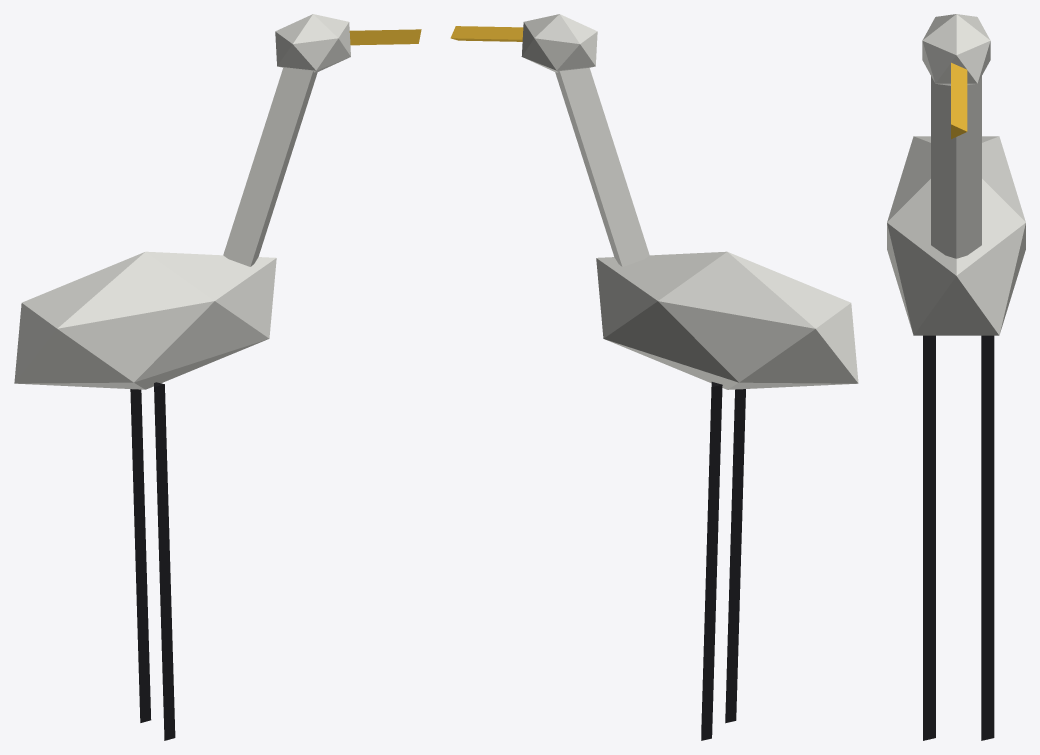
Rendered from hager.glb.
3 views of the same model, side by side, from view 1: azimuth 30°, elevation 25°; view 2: azimuth 150°, elevation 25°; view 3: azimuth 270°, elevation 25° (orthographic). The views are drawn at different scales.
Parts seen in each view (by area): view 1: hager; view 2: hager; view 3: hager.
Part boxes in pixels (x1=…): hager: x1=14, y1=14, x2=421, y2=740; hager: x1=450, y1=14, x2=858, y2=740; hager: x1=887, y1=14, x2=1025, y2=740.
Bounding box in the file's own units: 0.7732 × 1.24 × 0.1905.
